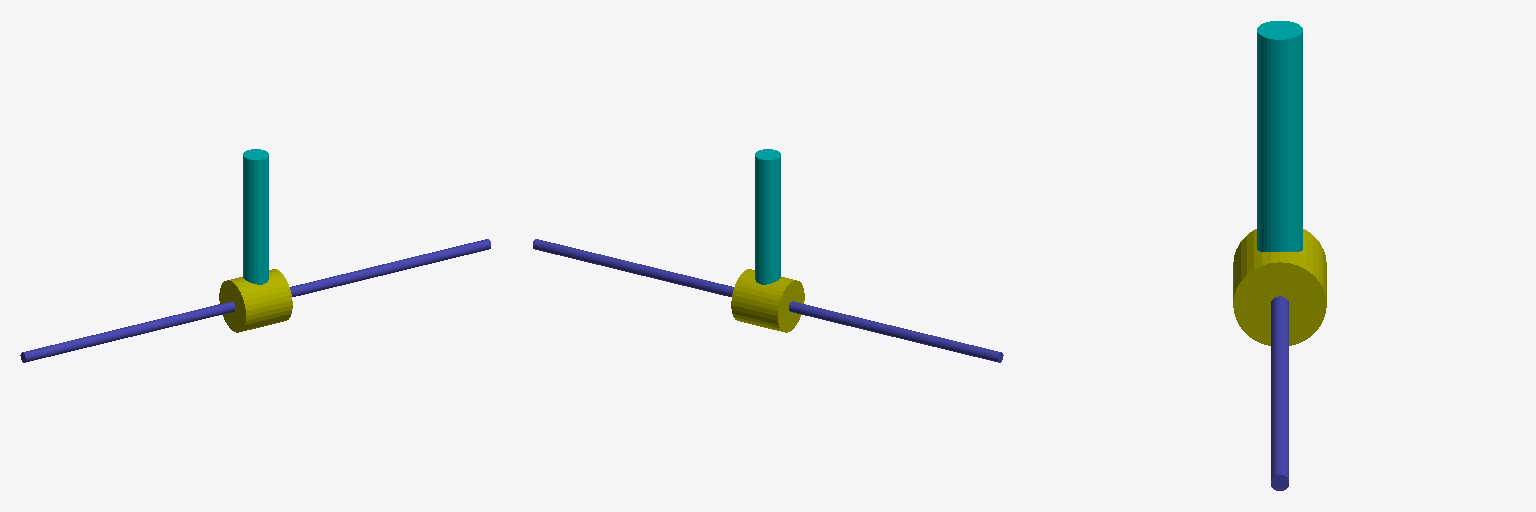
The robot description file, URDF, robot "inverted_pendulum":
<?xml version="1.0"?>
<!--
  InvertedPendulum, hand-ported from Gymnasium's MuJoCo MJCF:
    gazebo_gymnasium_resources/models/mujoco_sources/inverted_pendulum.xml

  The original MJCF uses `capsule` geometry, which is not a URDF primitive
  (URDF only allows box/cylinder/sphere/mesh). The capsules are represented
  here as cylinders of the same length and radius — physically equivalent
  to within the rounded-cap volumes, which are negligible for this model.

  Masses and inertia tensors are preserved from the MuJoCo computation
  (which derives them from geometry + a 1000 kg/m³ density default), so
  the dynamics should match the canonical env's behavior closely once
  loaded into Gazebo.

  Structure:
    world  -fixed->  rail  -slider(prismatic, X)->  cart  -hinge(revolute, Y)->  pole

  Run `gz sdf -p inverted_pendulum.urdf > inverted_pendulum.sdf` to convert.
-->
<robot name="inverted_pendulum">

  <!-- Root: an empty "world" link the rail is fixed to. SDF will collapse
       this into a static fixture during conversion. -->
  <link name="world"/>

  <joint name="world_to_rail" type="fixed">
    <parent link="world"/>
    <child link="rail"/>
    <origin xyz="0 0 0" rpy="0 0 0"/>
  </joint>

  <!-- The horizontal rail the cart slides along (MJCF: rotated 90° around Y
       so the capsule's long axis lies along X). Length 2 m, radius 0.02 m. -->
  <link name="rail">
    <inertial>
      <origin xyz="0 0 0" rpy="0 0 0"/>
      <mass value="0.0001"/>
      <inertia ixx="1e-6" ixy="0" ixz="0" iyy="1e-6" iyz="0" izz="1e-6"/>
    </inertial>
    <visual>
      <origin xyz="0 0 0" rpy="0 1.5708 0"/>
      <geometry>
        <cylinder length="2.0" radius="0.02"/>
      </geometry>
      <material name="rail_blue">
        <color rgba="0.3 0.3 0.7 1.0"/>
      </material>
    </visual>
    <collision>
      <origin xyz="0 0 0" rpy="0 1.5708 0"/>
      <geometry>
        <cylinder length="2.0" radius="0.02"/>
      </geometry>
    </collision>
  </link>

  <!-- Slider joint: prismatic, along the rail's X axis. Range matches MJCF. -->
  <joint name="slider" type="prismatic">
    <parent link="rail"/>
    <child link="cart"/>
    <origin xyz="0 0 0" rpy="0 0 0"/>
    <axis xyz="1 0 0"/>
    <limit lower="-1.0" upper="1.0" effort="100.0" velocity="10.0"/>
    <dynamics damping="1.0" friction="0.0"/>
  </joint>

  <!-- The cart: capsule of radius 0.1 m, length 0.2 m, oriented along X
       (long axis perpendicular to the page when looking at the rail head-on).
       Mass+inertia from MuJoCo's inertia-from-geom computation. -->
  <link name="cart">
    <inertial>
      <origin xyz="0 0 0" rpy="0 0 0"/>
      <mass value="10.47198"/>
      <inertia ixx="0.06981" ixy="0" ixz="0" iyy="0.17453" iyz="0" izz="0.17453"/>
    </inertial>
    <visual>
      <origin xyz="0 0 0" rpy="0 1.5708 0"/>
      <geometry>
        <cylinder length="0.2" radius="0.1"/>
      </geometry>
      <material name="cart_yellow">
        <color rgba="0.7 0.7 0.0 1.0"/>
      </material>
    </visual>
    <collision>
      <origin xyz="0 0 0" rpy="0 1.5708 0"/>
      <geometry>
        <cylinder length="0.2" radius="0.1"/>
      </geometry>
    </collision>
  </link>

  <!-- Hinge joint: revolute around Y axis (pole falls forward/backward).
       The MJCF range is degrees (-90 to 90); URDF uses radians. -->
  <joint name="hinge" type="revolute">
    <parent link="cart"/>
    <child link="pole"/>
    <origin xyz="0 0 0" rpy="0 0 0"/>
    <axis xyz="0 1 0"/>
    <limit lower="-1.5708" upper="1.5708" effort="100.0" velocity="10.0"/>
    <dynamics damping="1.0" friction="0.0"/>
  </joint>

  <!-- The pole: capsule from (0,0,0) to (0.001,0,0.6) in MJCF, so its long
       axis points roughly +Z with a tiny X offset for visual distinction.
       Represented as a cylinder of length 0.6 m, radius 0.049 m, with its
       center 0.3 m above the hinge. -->
  <link name="pole">
    <inertial>
      <origin xyz="0.00050 0 0.30000" rpy="0 0 0"/>
      <mass value="5.01859"/>
      <inertia ixx="0.20787" ixy="0" ixz="0" iyy="0.20796" iyz="0" izz="0.00813"/>
    </inertial>
    <visual>
      <origin xyz="0.00050 0 0.30000" rpy="0 0 0"/>
      <geometry>
        <cylinder length="0.6" radius="0.049"/>
      </geometry>
      <material name="pole_cyan">
        <color rgba="0.0 0.7 0.7 1.0"/>
      </material>
    </visual>
    <collision>
      <origin xyz="0.00050 0 0.30000" rpy="0 0 0"/>
      <geometry>
        <cylinder length="0.6" radius="0.049"/>
      </geometry>
    </collision>
  </link>

</robot>

--- Facts derived from the render (not from the file) ---
3 views of the same robot in one strip: view 1: azimuth 30°, elevation 25°; view 2: azimuth 150°, elevation 25°; view 3: azimuth 270°, elevation 25° (orthographic).
Model inverted_pendulum with 4 links and 3 joints (1 revolute, 1 prismatic, 1 fixed), rooted at world, posed every joint at zero.
Visible links, largest first — view 1: rail, pole, cart; view 2: rail, pole, cart; view 3: pole, cart, rail.
Link boxes in pixels (<box>): rail: <box>20,239,490,362</box>; pole: <box>243,149,268,284</box>; cart: <box>219,269,292,332</box>; rail: <box>533,239,1003,362</box>; pole: <box>755,149,780,284</box>; cart: <box>731,269,804,332</box>; pole: <box>1257,21,1302,251</box>; cart: <box>1233,229,1326,345</box>; rail: <box>1271,296,1288,490</box>.
Size in the robot's own frame: 2 by 0.2 by 0.7 metres.
Geometry: primitives only (box / cylinder / sphere), no mesh files.
